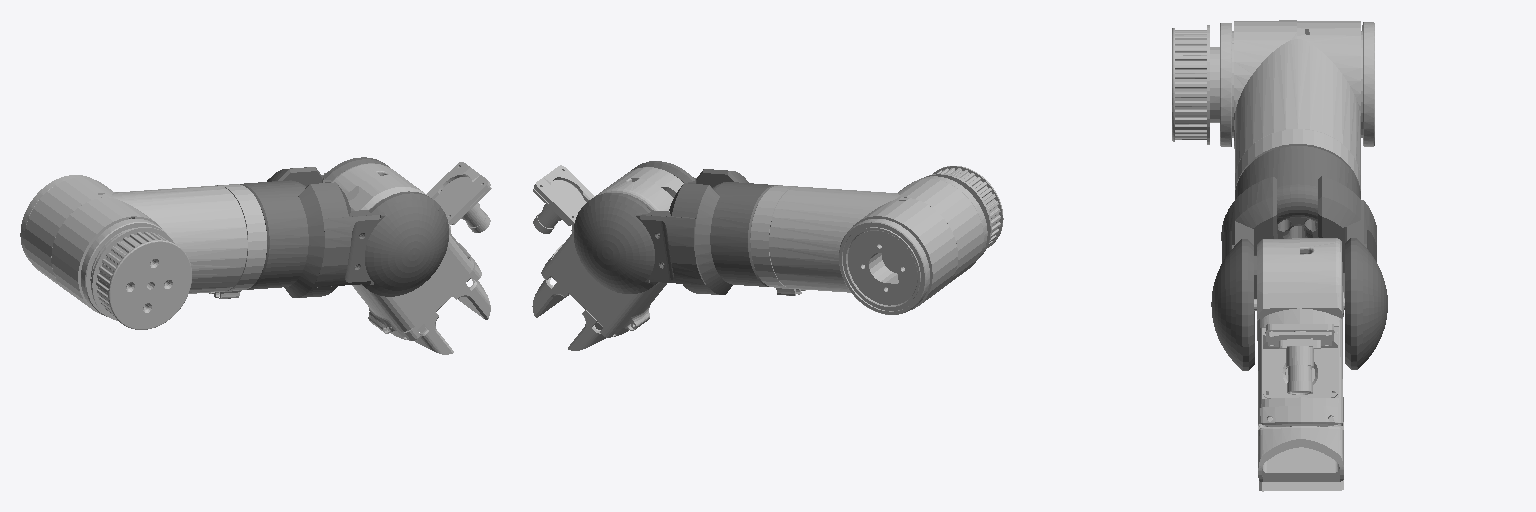
The robot description file, URDF, robot "TOP Level assembly robotic":
<?xml version='1.0' encoding='utf-8'?>
<robot name="TOP Level assembly robotic">
  <link name="Miro">
    <inertial>
      <origin xyz="0.12809 0.28302 0.18465" rpy="0 0 0" />
      <mass value="6.1293" />
      <inertia ixx="0.0062833" ixy="-8.0836E-05" ixz="1.5073E-05" iyy="0.0098446" iyz="2.184E-05" izz="0.0087326" />
    </inertial>
    </link>
  <link name="AXIS 1">
    <inertial>
      <origin xyz="-0.26755 0.19557 0.082474" rpy="0 0 0" />
      <mass value="1.1936" />
      <inertia ixx="0.0026872" ixy="1.5216E-05" ixz="-6.6065E-07" iyy="0.0059432" iyz="-5.4659E-08" izz="0.0038908" />
    </inertial>
    <visual>
      <origin xyz="0 0 0" rpy="0 0 0" />
      <geometry>
        <mesh filename="meshes/axis1.STL" />
      </geometry>
      <material name="">
        <color rgba="0.75294 0.75294 0.75294 1" />
      </material>
    </visual>
    <collision>
      <origin xyz="0 0 0" rpy="0 0 0" />
      <geometry>
        <mesh filename="meshes/axis1.STL" />
      </geometry>
    </collision>
  </link>
  <joint name="base_fixed" type="fixed">
    <origin xyz="0.32844 -0.107 -0.060546" rpy="1.5708 0 0" />
    <parent link="Miro" />
    <child link="AXIS 1" />
    </joint>
  <link name="Axis 2">
    <inertial>
      <origin xyz="-0.00021854 0.049376 0.0099302" rpy="0 0 0" />
      <mass value="3.0409" />
      <inertia ixx="0.0018084" ixy="-4.7087E-07" ixz="-2.1659E-08" iyy="0.0021007" iyz="-4.0185E-06" izz="0.0025247" />
    </inertial>
    <visual>
      <origin xyz="0 0 0" rpy="0 0 0" />
      <geometry>
        <mesh filename="meshes/axis2.STL" />
      </geometry>
      <material name="">
        <color rgba="0.75294 0.75294 0.75294 1" />
      </material>
    </visual>
    <collision>
      <origin xyz="0 0 0" rpy="0 0 0" />
      <geometry>
        <mesh filename="meshes/axis2.STL" />
      </geometry>
    </collision>
  </link>
  <joint name="joint1" type="revolute">
    <origin xyz="-0.22955 0.24269 0.082099" rpy="3.1416 -0.0025833 -3.1416" />
    <parent link="AXIS 1" />
    <child link="Axis 2" />
    <axis xyz="0 1 0" />
    <limit lower="-1.5708" upper="1.5708" effort="10" velocity="3" />
  </joint>
  <link name="Axis 3">
    <inertial>
      <origin xyz="-0.0018297 0.069638 0.00012582" rpy="0 0 0" />
      <mass value="0.96159" />
      <inertia ixx="0.0015331" ixy="2.2065E-05" ixz="-2.1997E-07" iyy="0.0011138" iyz="1.0043E-06" izz="0.0014746" />
    </inertial>
    <visual>
      <origin xyz="0 0 0" rpy="0 0 0" />
      <geometry>
        <mesh filename="meshes/axis3.STL" />
      </geometry>
      <material name="">
        <color rgba="0.75294 0.75294 0.75294 1" />
      </material>
    </visual>
    <collision>
      <origin xyz="0 0 0" rpy="0 0 0" />
      <geometry>
        <mesh filename="meshes/axis3.STL" />
      </geometry>
    </collision>
  </link>
  <joint name="joint2" type="revolute">
    <origin xyz="-0.0008 0.1734 0" rpy="2.316 1.5708 2.8287" />
    <parent link="Axis 2" />
    <child link="Axis 3" />
    <axis xyz="1 0 0" />
    <limit lower="-1.5708" upper="1.5708" effort="10" velocity="3" />
  </joint>
  <link name="Axis 4">
    <inertial>
      <origin xyz="0.0059037 0.030379 -3.6398E-05" rpy="0 0 0" />
      <mass value="0.4266" />
      <inertia ixx="0.00042706" ixy="1.5556E-08" ixz="1.0912E-07" iyy="0.00015671" iyz="-2.5981E-08" izz="0.00036572" />
    </inertial>
    <visual>
      <origin xyz="0 0 0" rpy="0 0 0" />
      <geometry>
        <mesh filename="meshes/axis4.STL" />
      </geometry>
      <material name="">
        <color rgba="0.75294 0.75294 0.75294 1" />
      </material>
    </visual>
    <collision>
      <origin xyz="0 0 0" rpy="0 0 0" />
      <geometry>
        <mesh filename="meshes/axis4.STL" />
      </geometry>
    </collision>
  </link>
  <joint name="joint3" type="revolute">
    <origin xyz="0 0.194 0" rpy="-1.2236 0 0" />
    <parent link="Axis 3" />
    <child link="Axis 4" />
    <axis xyz="1 0 0" />
    <limit lower="-1.5708" upper="1.5708" effort="10" velocity="3" />
  </joint>
  <link name="Axis 5">
    <inertial>
      <origin xyz="-0.00026602 0.046585 -4.0594E-10" rpy="0 0 0" />
      <mass value="0.25241" />
      <inertia ixx="0.0001724" ixy="-1.528E-13" ixz="-2.123E-08" iyy="0.00011394" iyz="-9.1201E-13" izz="0.00014163" />
    </inertial>
    <visual>
      <origin xyz="0 0 0" rpy="0 0 0" />
      <geometry>
        <mesh filename="meshes/axis5.STL" />
      </geometry>
      <material name="">
        <color rgba="0.50196 0.50196 0.50196 1" />
      </material>
    </visual>
    <collision>
      <origin xyz="0 0 0" rpy="0 0 0" />
      <geometry>
        <mesh filename="meshes/axis5.STL" />
      </geometry>
    </collision>
  </link>
  <joint name="joint4" type="revolute">
    <origin xyz="-4.9882E-05 0.10239 0" rpy="0 0.0077579 0" />
    <parent link="Axis 4" />
    <child link="Axis 5" />
    <axis xyz="0 1 0" />
    <limit lower="-1.5708" upper="1.5708" effort="10" velocity="3" />
  </joint>
  <link name="Axis 6">
    <inertial>
      <origin xyz="-0.0012592 0.0095714 0.017485" rpy="0 0 0" />
      <mass value="0.25416" />
      <inertia ixx="0.0001339" ixy="7.9395E-07" ixz="5.062E-06" iyy="0.0001847" iyz="1.4116E-06" izz="8.8088E-05" />
    </inertial>
    <visual>
      <origin xyz="0 0 0" rpy="0 0 0" />
      <geometry>
        <mesh filename="meshes/axis6.STL" />
      </geometry>
      <material name="">
        <color rgba="0.75294 0.75294 0.75294 1" />
      </material>
    </visual>
    <collision>
      <origin xyz="0 0 0" rpy="0 0 0" />
      <geometry>
        <mesh filename="meshes/axis6.STL" />
      </geometry>
    </collision>
  </link>
  <joint name="joint5" type="revolute">
    <origin xyz="0 0.091411 0" rpy="3.1416 -0.77362 1.5708" />
    <parent link="Axis 5" />
    <child link="Axis 6" />
    <axis xyz="0 1 0" />
    <limit lower="-1.0472" upper="1.0472" effort="10" velocity="3" />
  </joint>
</robot>

--- What the picture shows (computed from the rendered views, not written in the file) ---
Views: 3 orthographic renders of the robot side by side, from view 1: azimuth 30°, elevation 25°; view 2: azimuth 150°, elevation 25°; view 3: azimuth 270°, elevation 25°.
Model TOP Level assembly robotic with 7 links and 6 joints (5 revolute, 1 fixed), rooted at Miro, posed all joints at 0.
Links seen in each view (by area): view 1: Axis 4, Axis 5, Axis 6; view 2: Axis 4, Axis 5, Axis 6; view 3: Axis 4, Axis 6, Axis 5.
Boxes of the visible links, x1,y1,x2,y2 form: Axis 4: (20,175,266,329); Axis 5: (240,157,448,297); Axis 6: (331,162,491,354); Axis 4: (750,166,1003,314); Axis 5: (574,161,777,294); Axis 6: (532,165,683,350); Axis 4: (1172,20,1374,190); Axis 6: (1254,238,1344,491); Axis 5: (1211,146,1387,370).
Bounding box of the posed robot: 0.2999 × 0.1077 × 0.1477 m (x, y, z).
3 mesh visuals loaded from 6 distinct referenced files (3 binary STL); not drawn: 3 (reference not matched to a file when rendering).
